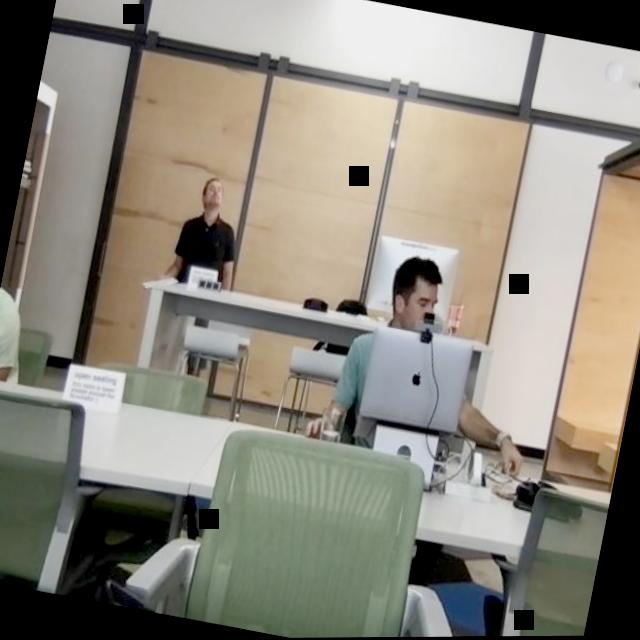NO-Mask: (197, 172, 227, 217)
